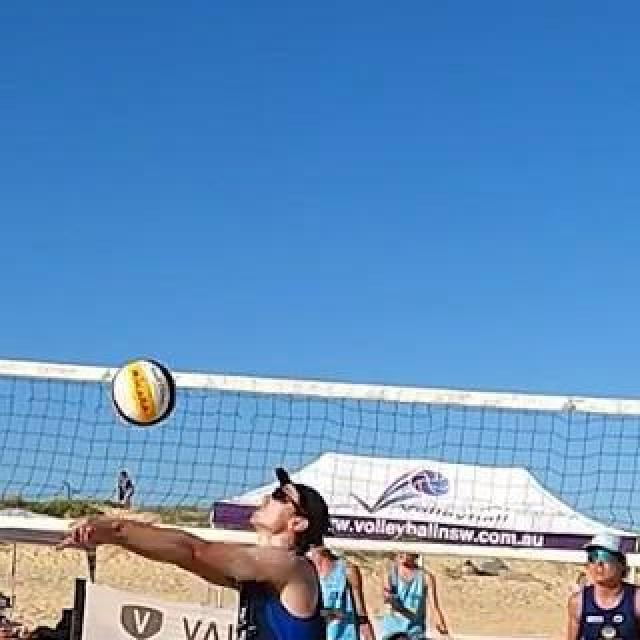volleyball: (113, 362, 177, 426)
